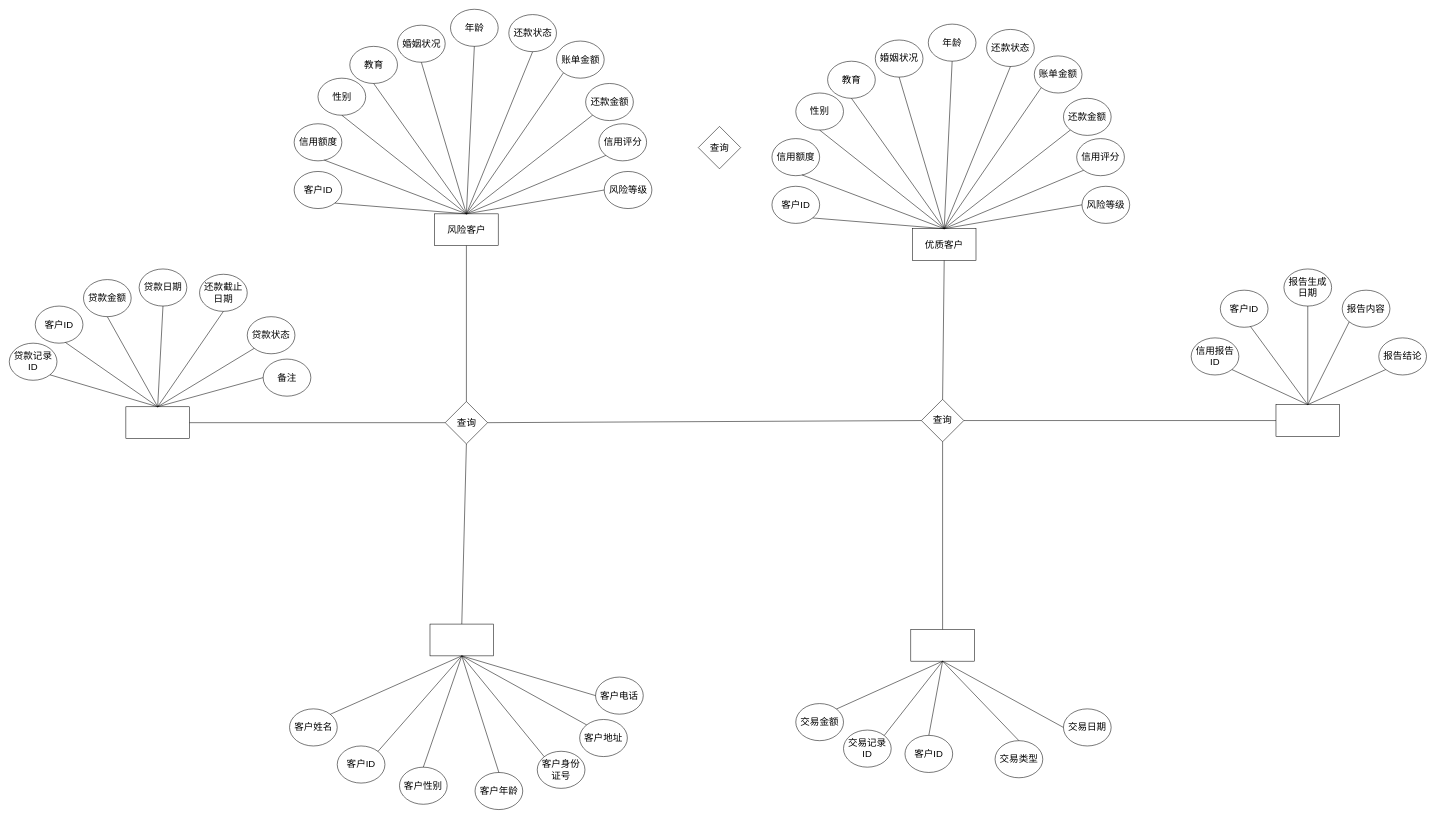
This 1436x819 diagram has some shape labels left out. The box of each missing label's shape, as (x1, y1, x2, y2) in pixels:
交易记录: (910, 629, 974, 661)
信用报告: (1275, 404, 1340, 436)
客户信息: (429, 624, 494, 656)
贷款记录: (125, 406, 189, 439)
